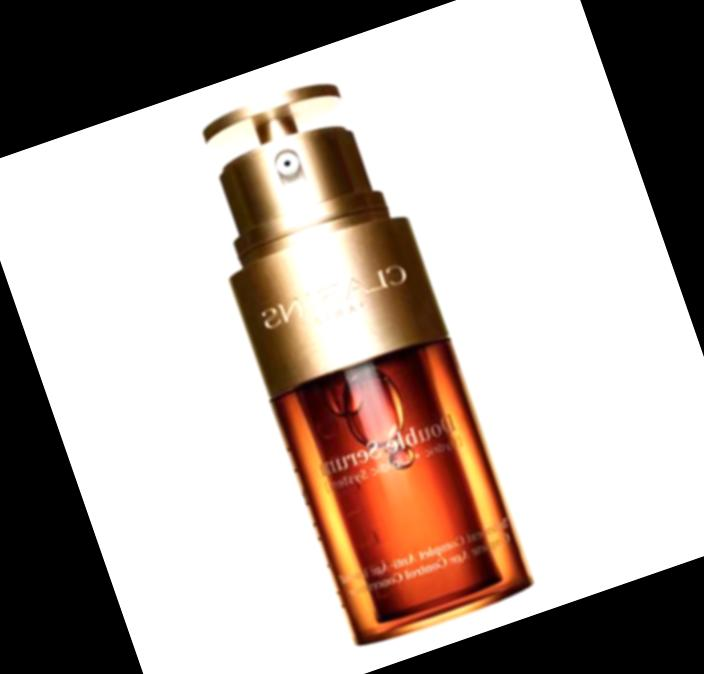cosmetic: (171, 57, 541, 647)
